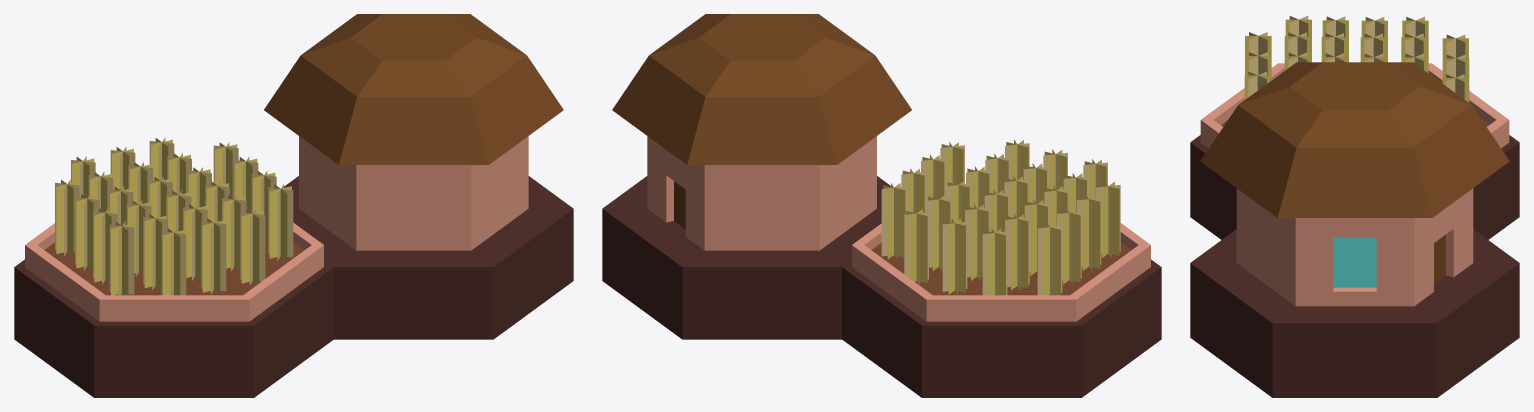
The model's file is Farma_base.fbx.
3 views of the same model, side by side, from view 1: azimuth 30°, elevation 25°; view 2: azimuth 150°, elevation 25°; view 3: azimuth 270°, elevation 25° (orthographic). The views are drawn at different scales.
Parts seen in each view (by area): view 1: Cylinder.003; view 2: Cylinder.003; view 3: Cylinder.003.
Boxes of the visible parts, x1,y1,x2,y2 form: Cylinder.003: [14, 14, 573, 397]; Cylinder.003: [602, 14, 1161, 397]; Cylinder.003: [1190, 16, 1519, 397].
Size of the model in its own units: 173 by 84.05 by 100.
